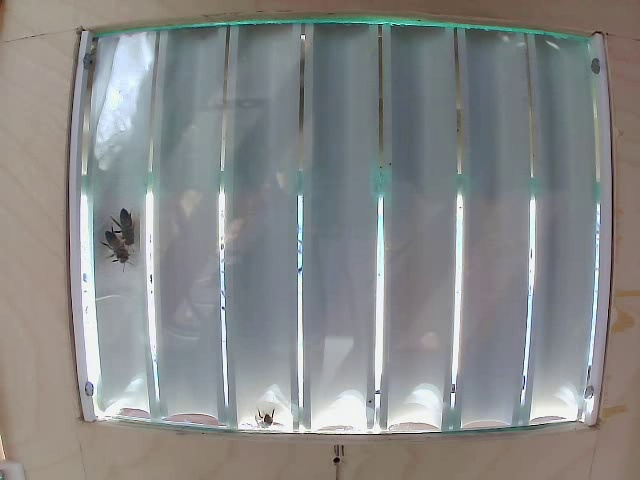bee: (116, 205, 144, 247), (103, 222, 130, 263)
